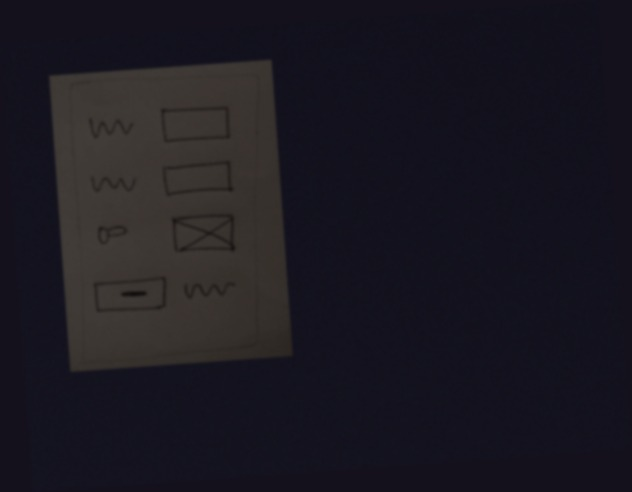button: (90, 274, 170, 318)
image: (164, 207, 242, 257)
switch: (94, 219, 133, 250)
text: (181, 276, 242, 308), (84, 112, 138, 144), (88, 168, 140, 199)
text_input: (156, 101, 235, 151), (161, 156, 235, 202)
